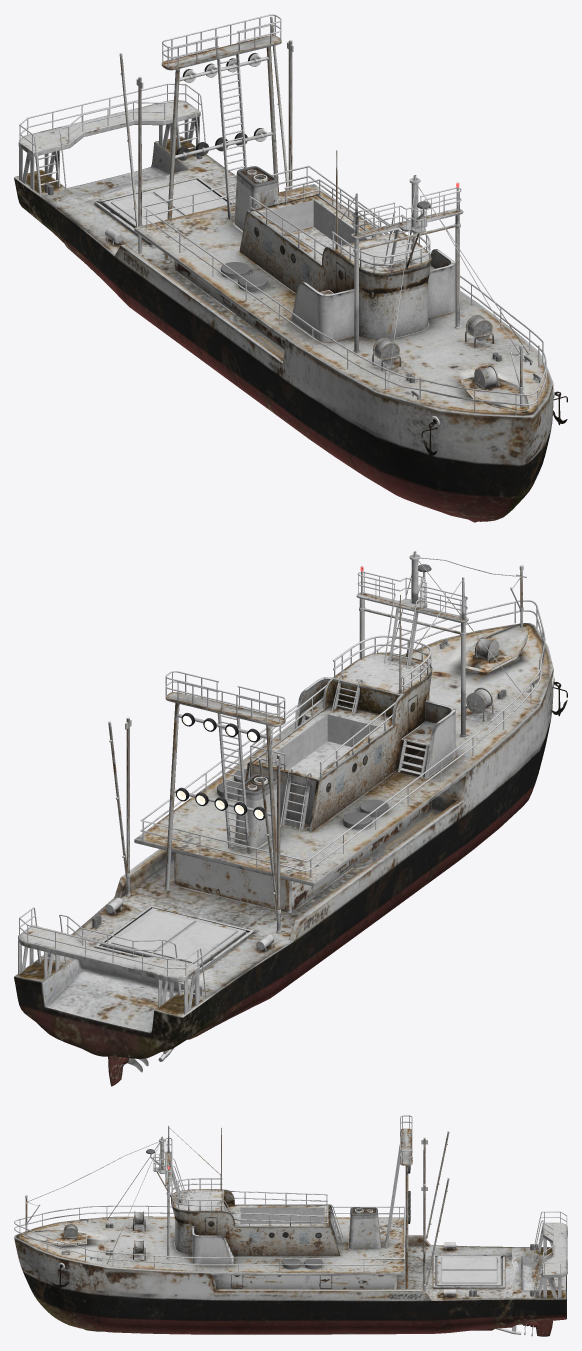
The model's file is salt-beaten_fishing_trawler_game-ready.glb.
3 views of the same model, one above another, from view 1: azimuth 30°, elevation 25°; view 2: azimuth 150°, elevation 25°; view 3: azimuth 270°, elevation 25° (orthographic). The views are drawn at different scales.
Visible parts, largest first — view 1: Main; view 2: Main; view 3: Main.
Boxes of the visible parts, box(x1,y1,x2,y2) form: Main: box(14, 14, 567, 522); Main: box(14, 551, 567, 1086); Main: box(14, 1115, 567, 1336).
Bounding box in the file's own units: 0.1774 × 0.2994 × 0.7404.
1 material, 1 textured.
